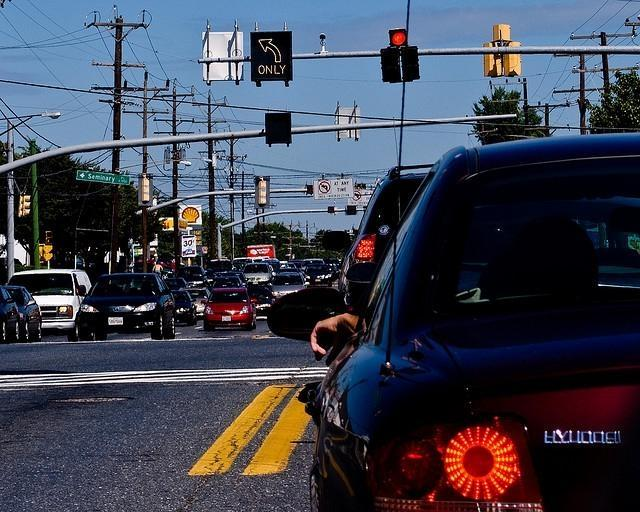car: (316, 134, 640, 506), (338, 164, 436, 308), (79, 274, 178, 340), (202, 288, 258, 330), (4, 286, 42, 340), (0, 287, 22, 344), (272, 268, 307, 300), (177, 266, 209, 288), (304, 263, 332, 287), (186, 288, 210, 316), (243, 262, 273, 284), (166, 278, 187, 292)
truck: (4, 269, 92, 342)
